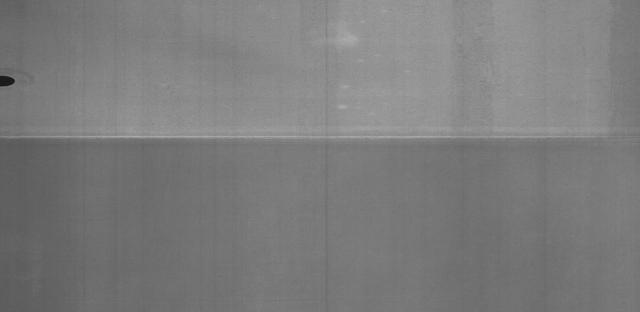punching_hole: (0, 70, 23, 98)
welding_line: (2, 122, 640, 150)
